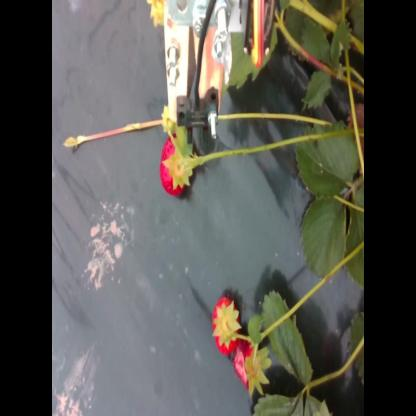ripe: (157, 131, 194, 200), (232, 334, 268, 396), (207, 295, 240, 354)
